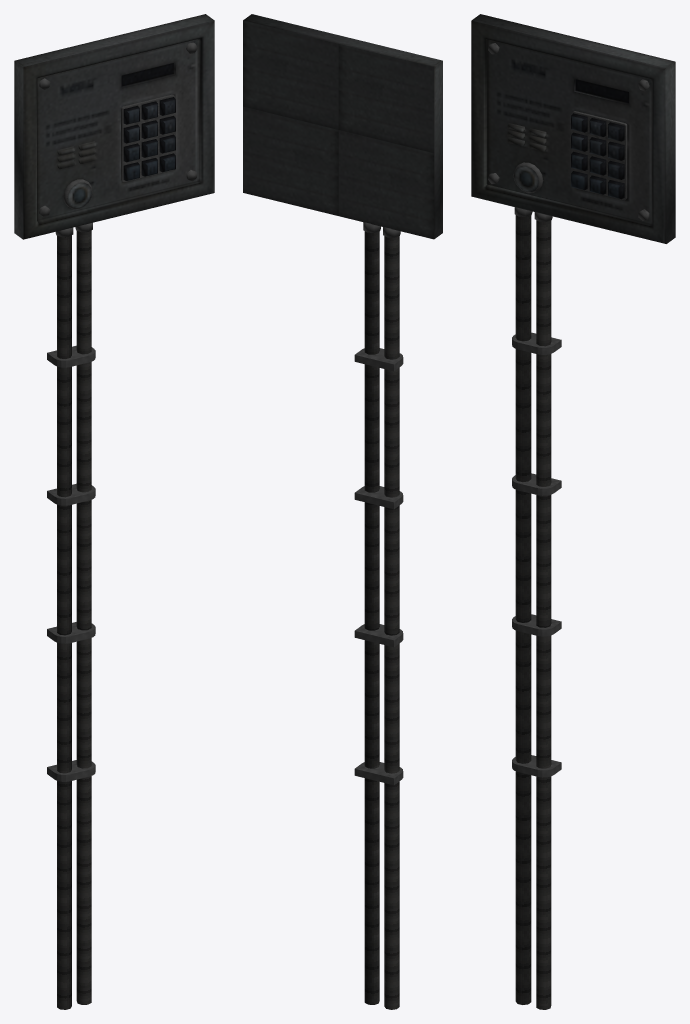
Rendered from keypad_1.obj.
The picture shows the model from 3 angles, left to right: view 1: azimuth 30°, elevation 25°; view 2: azimuth 150°, elevation 25°; view 3: azimuth 330°, elevation 25°; orthographic projection. The views are drawn at different scales.
Parts seen in each view (by area): view 1: keypad_1; view 2: keypad_1; view 3: keypad_1.
Boxes of the visible parts, left/top/right/bottom form: keypad_1: left=14, top=14, right=214, bottom=1009; keypad_1: left=243, top=14, right=442, bottom=1009; keypad_1: left=471, top=14, right=675, bottom=1009.
Size of the model in its own units: 0.29 by 1.38 by 0.043.
